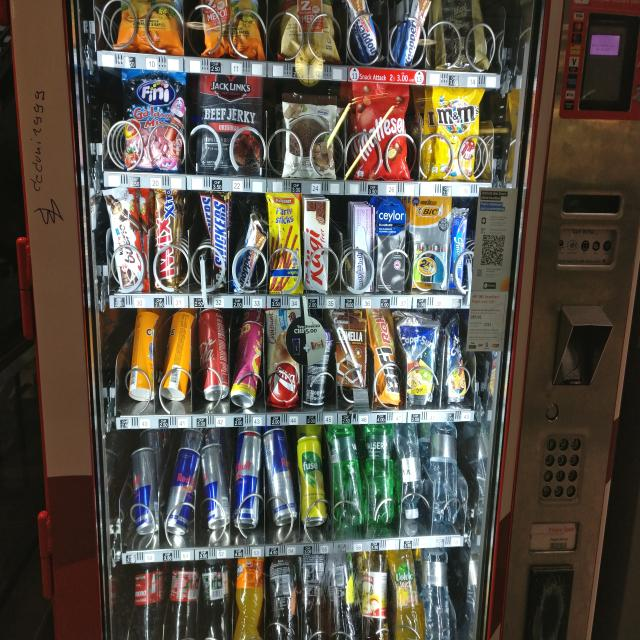7days_croissantschoko_packung_80_1_0000000000003: (268, 309, 302, 410)
berger_schoggitoertli____: (281, 95, 334, 178)
bifi_roll__50__4251097402635: (368, 307, 403, 404)
bueno___43__4008400320328: (105, 186, 148, 291)
c-swiss_dosenabisicetea__33__9120025930135: (158, 313, 194, 399), (127, 315, 155, 404)
caprisun_multivitamin__20__4000177605004: (397, 312, 440, 403), (442, 311, 469, 397)
coke__dose_33__54491472: (197, 307, 230, 401)
coke__flasche_50__54491472: (129, 564, 166, 640), (166, 561, 202, 638), (202, 559, 234, 640)
comella_schokodrink__33__7613100037253: (332, 314, 368, 403)
fanta___50__40822938: (232, 557, 266, 640)
fini_galaxymix_packung_100_1_8410525150364: (123, 68, 183, 170)
fuse_lemon__50__5449000235947: (326, 550, 361, 640)
fuse_lemon_dose_33__5449000235947: (294, 429, 328, 533)
fuse_peach__50__5449000236623: (266, 553, 302, 640), (300, 550, 330, 640)
jacklinks_beefjerkyorginal__25__4047751730219: (196, 69, 264, 176)
kagi___50__7610046000259: (304, 199, 329, 296)
knoppers_riegel____4035800488808: (230, 222, 266, 292)
malburner_partysticks__40__7610200279682: (266, 188, 306, 296)
maltesers___100__5000159023061: (351, 80, 414, 176)
mnms_gelb__45__40111445: (429, 85, 482, 183)
ramseier_schorle__50__7610057012456: (358, 552, 392, 640)
redbull___33__90162909: (230, 427, 266, 530), (262, 428, 300, 525), (162, 446, 198, 536), (130, 446, 164, 534), (200, 445, 233, 530)
snickers___50__5000159461122: (210, 189, 230, 289)
tiki_himbeerbrause_dose_33_1_: (233, 322, 262, 407)
twix___50__5000159459228: (152, 185, 186, 290)
valser_classic__50__76404160: (326, 420, 367, 527), (364, 420, 398, 526)
valser_still__50__7610335002575: (430, 421, 461, 529), (422, 544, 452, 640), (398, 418, 426, 518)
volvic_pinapple__50__305764335648: (389, 551, 421, 640)
